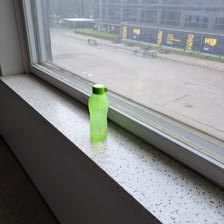bottle: (86, 83, 110, 142)
